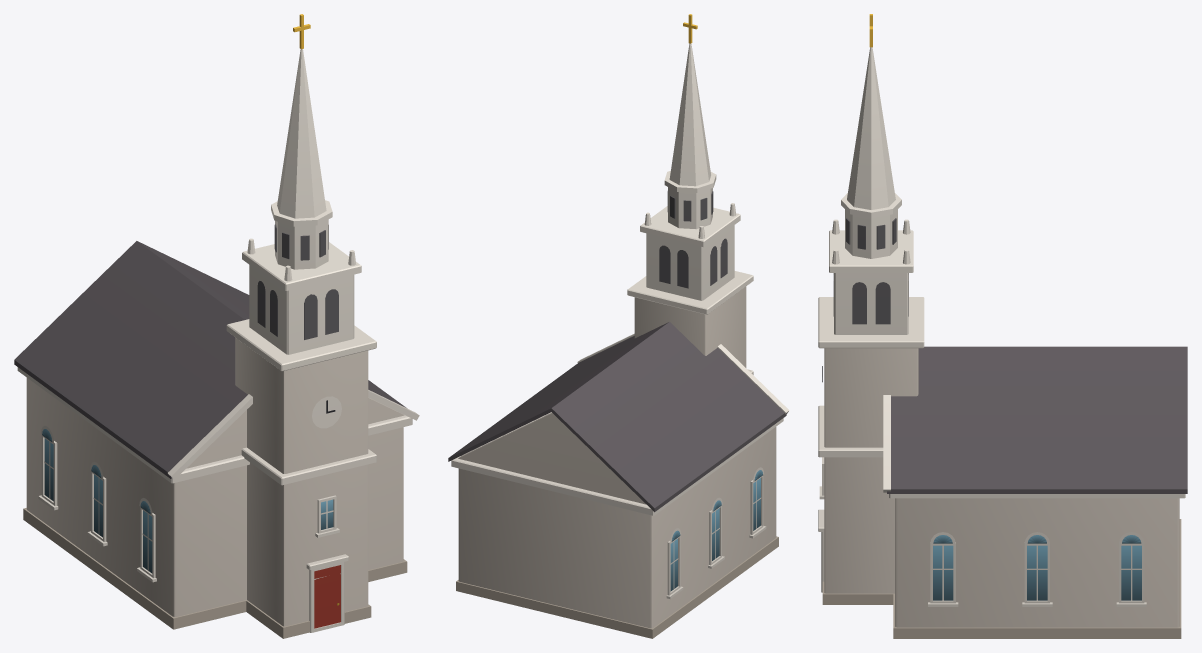
The model's file is park_church.glb.
3 renders of one model, left to right at view 1: azimuth 30°, elevation 25°; view 2: azimuth 150°, elevation 25°; view 3: azimuth 270°, elevation 25°, orthographic. The views are drawn at different scales.
Visible parts, largest first — view 1: park_church; view 2: park_church; view 3: park_church.
Part boxes in pixels (x1,y1,x2,y2): park_church: (14, 14, 419, 638); park_church: (448, 14, 789, 638); park_church: (818, 14, 1187, 638).
Bounding box in the file's own units: 13.97 × 32.02 × 18.8.
Materials: 1 (1 with a texture image).
